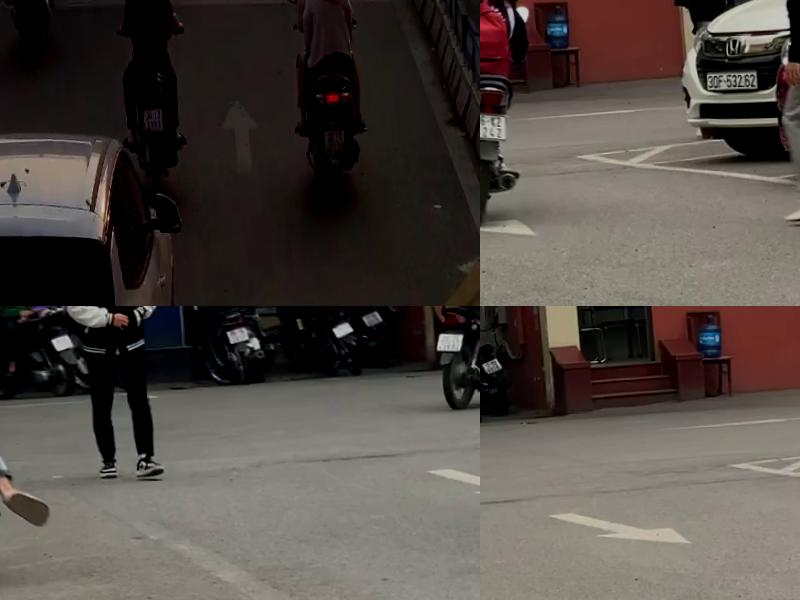license_plate: (480, 111, 506, 147), (435, 334, 466, 358), (225, 329, 249, 349), (322, 134, 341, 159), (140, 111, 160, 134), (480, 359, 501, 379), (362, 315, 383, 334), (51, 336, 73, 354), (332, 326, 354, 344)
motorcyclist: (277, 0, 375, 210), (116, 0, 188, 208), (480, 0, 534, 231), (429, 306, 480, 414), (0, 0, 62, 62)
